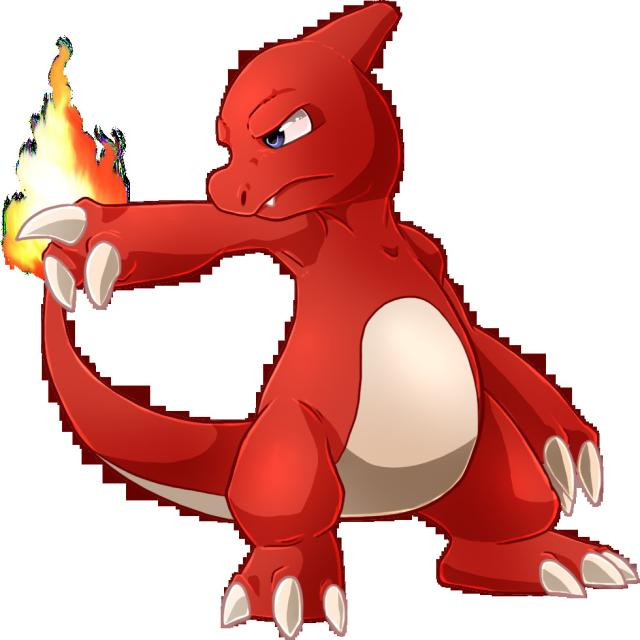Charmeleon: (115, 19, 609, 617)
